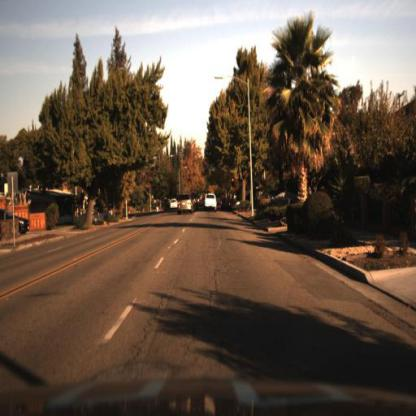car: (263, 188, 305, 209), (178, 193, 196, 216), (205, 191, 219, 211), (168, 197, 179, 211)
trafficLight-Red: (204, 156, 212, 172), (230, 174, 238, 190)
